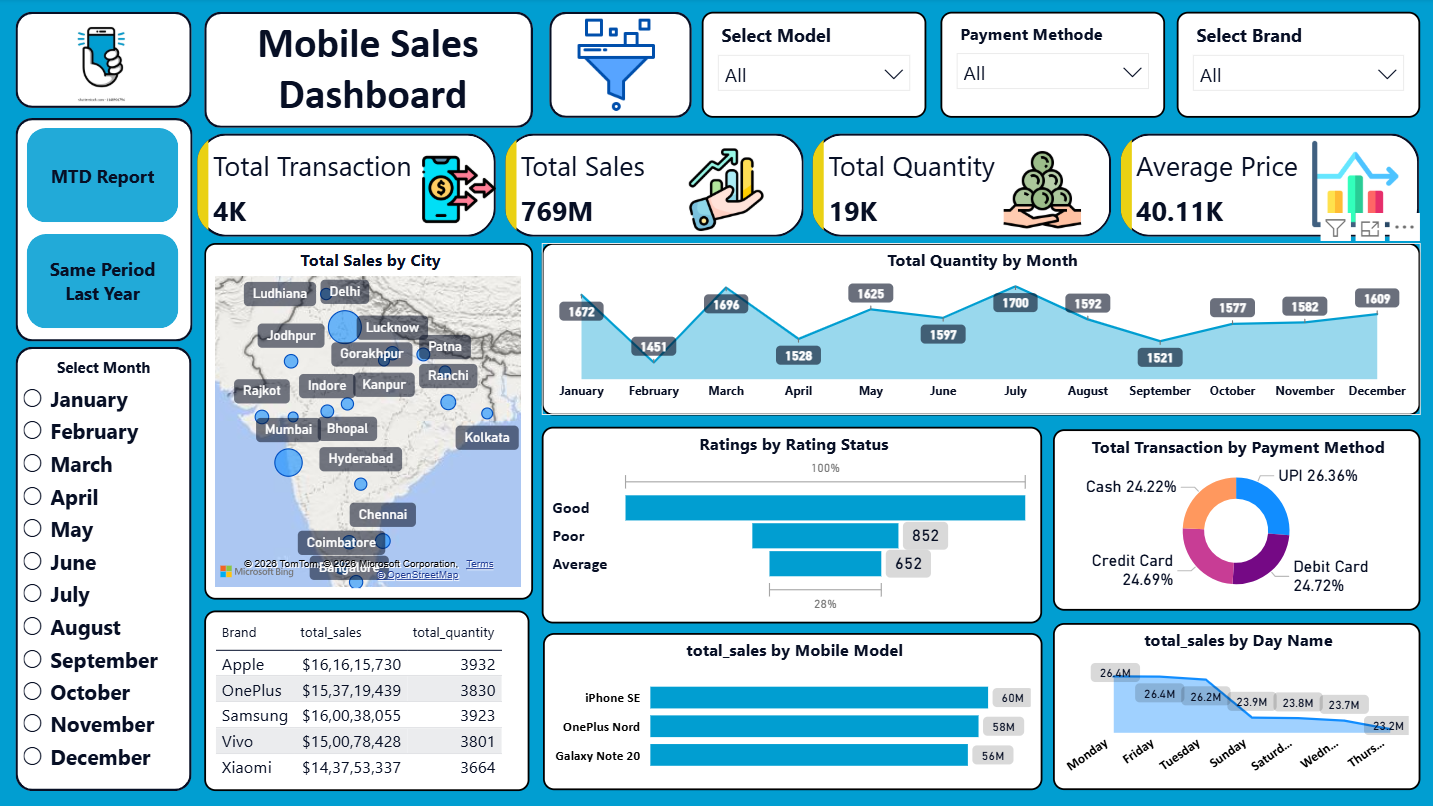

This screenshot's page, from the dashboard's own definition file:
{"tool":"powerbi","page":{"name":"Mobile Sales Report","canvas":[1280,720],"ordinal":0},"visuals":[{"type":"shape","box":[15.6,12.2,157,85.7],"z":0},{"type":"image","box":[0,12.2,183.7,85.7],"z":1000},{"type":"shape","box":[15.1,107,157.8,199],"z":2000},{"type":"shape","box":[15.7,310.1,156.8,395.7],"z":3000},{"type":"listSlicer","title":"Select Month","fields":{"Values":["Calendar.date.Variation.Date Hierarchy.Month"]},"box":[15.7,319.7,156.8,386.1],"z":4000},{"type":"cardVisual","fields":{"Data":["sales data.total_transaction","sales data.total_sales","sales data.total_quantity","Avg(sales data.Price Per Unit)"]},"box":[172.9,115.3,1100,102.9],"z":5000},{"type":"image","box":[373.2,122.1,75.5,96.1],"z":6000},{"type":"image","box":[865.9,129,127.6,83.7],"z":7000},{"type":"image","box":[1159.5,122.1,97.4,86.4],"z":8000},{"type":"image","box":[584.6,129,127.6,83.7],"z":9000},{"type":"slicer","fields":{"Values":["sales data.Mobile Model"]},"box":[627.1,12.3,200.3,94.7],"z":10000},{"type":"slicer","fields":{"Values":["sales data.Payment Method"]},"box":[839.8,12.3,200.3,94.7],"z":11000},{"type":"slicer","fields":{"Values":["sales data.Brand"]},"box":[1049.7,12.3,216.8,94.7],"z":12000},{"type":"shape","box":[490.9,12.2,126.9,94.6],"z":13000},{"type":"shape","box":[183.7,12.2,292.8,103.5],"z":14000},{"type":"image","box":[495.4,12.3,109.8,94.7],"z":15000},{"type":"textbox","box":[172.9,12.3,322.5,116.6],"z":16000},{"type":"map","title":"Total Sales by City","fields":{"Category":["sales data.City"],"Size":["sales data.total_sales"]},"box":[183.4,218.4,293.2,317.3],"z":17000},{"type":"lineChart","title":"Total Quantity by Month","fields":{"Y":["sales data.total_quantity"],"Category":["Calendar.date.Variation.Date Hierarchy.Month"]},"box":[484.4,218.2,782.2,153.7],"z":18000},{"type":"donutChart","title":"Total Transaction by Payment Method","fields":{"Y":["sales data.total_transaction"],"Category":["sales data.Payment Method"]},"box":[939.8,383.6,326.9,161.7],"z":19000},{"type":"funnel","title":"Ratings by Rating Status","fields":{"Category":["sales data.Rating Status"],"Y":["CountNonNull(sales data.Rating Status)"]},"box":[484.4,381.5,446,175],"z":20000},{"type":"clusteredBarChart","fields":{"Y":["sales data.total_sales"],"Category":["sales data.Mobile Model"]},"box":[485,565.8,445.2,139.9],"z":21000},{"type":"areaChart","fields":{"Category":["Calendar.Day Name"],"Y":["sales data.total_sales"]},"box":[939.5,556.6,327.3,149.2],"z":22000},{"type":"tableEx","fields":{"Values":["sales data.Brand","sales data.total_sales","sales data.total_quantity"]},"box":[183.4,545.3,289.5,160.5],"z":23000},{"type":"pageNavigator","box":[26.1,115.3,135.8,179.8],"z":24000}]}

Visuals, with their boxes in screenshot pixels (x1, y1, x2, y2), scaled from the page's 1280x720 canvas onto the 1433x806 screenshot:
shape: 17:14:193:110
image: 0:14:206:110
shape: 17:120:194:343
shape: 18:347:193:790
"Select Month" listSlicer: 18:358:193:790
cardVisual - sales data.total_transaction x sales data.total_sales: 194:129:1425:244
image: 418:137:502:244
image: 969:144:1112:238
image: 1298:137:1407:233
image: 654:144:797:238
slicer - sales data.Mobile Model: 702:14:926:120
slicer - sales data.Payment Method: 940:14:1164:120
slicer - sales data.Brand: 1175:14:1418:120
shape: 550:14:692:120
shape: 206:14:533:130
image: 555:14:678:120
textbox: 194:14:555:144
"Total Sales by City" map: 205:244:534:600
"Total Quantity by Month" lineChart: 542:244:1418:416
"Total Transaction by Payment Method" donutChart: 1052:429:1418:610
"Ratings by Rating Status" funnel: 542:427:1042:623
clusteredBarChart - sales data.total_sales x sales data.Mobile Model: 543:633:1041:790
areaChart - Calendar.Day Name x sales data.total_sales: 1052:623:1418:790
tableEx - sales data.Brand x sales data.total_sales: 205:610:529:790
pageNavigator: 29:129:181:330
